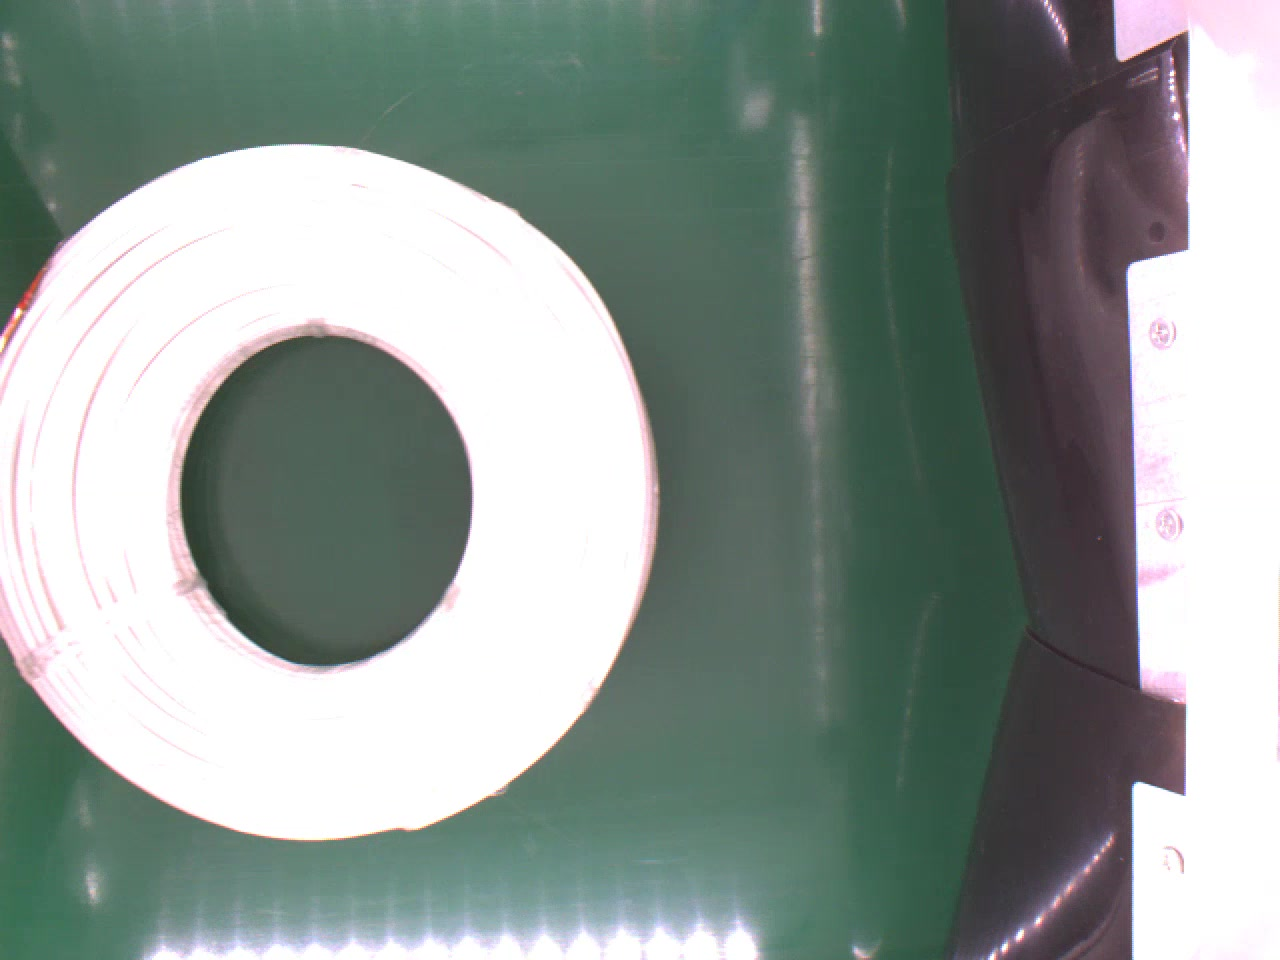white: (0, 132, 659, 844)
